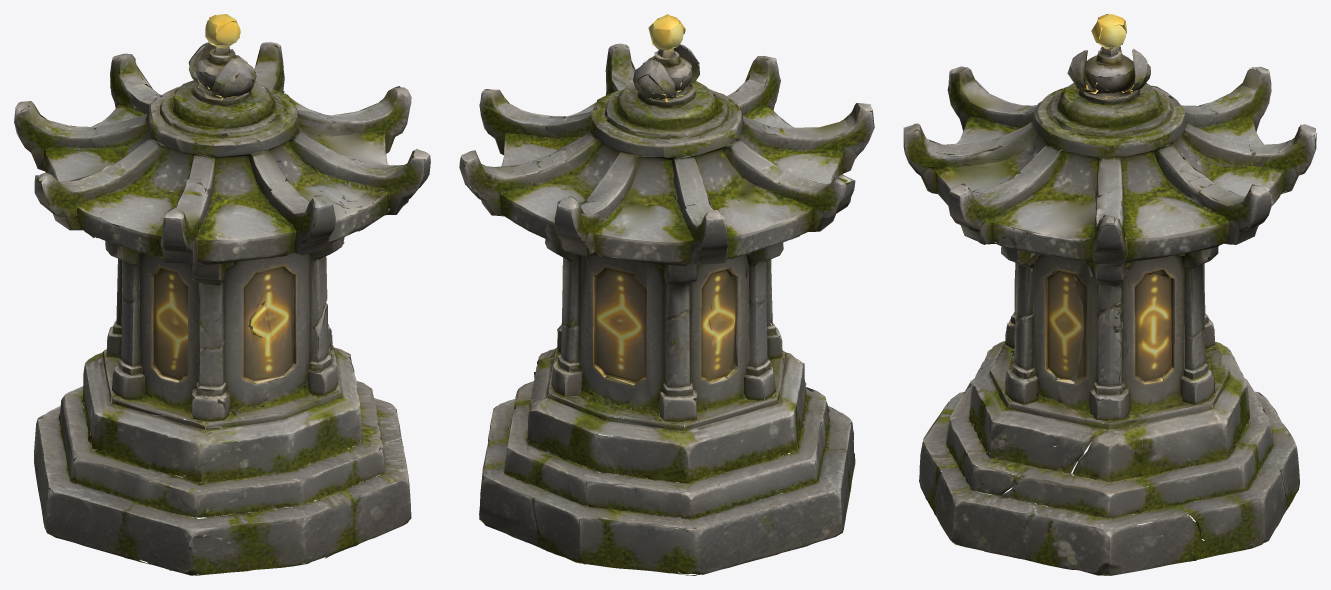
Rendered from shrine.glb.
The picture shows the model from 3 angles, left to right: view 1: azimuth 30°, elevation 25°; view 2: azimuth 150°, elevation 25°; view 3: azimuth 270°, elevation 25°; orthographic projection.
Visible parts, largest first — view 1: node_0; view 2: node_0; view 3: node_0.
Boxes of the visible parts, x1,y1,x2,y2 form: node_0: (14, 14, 430, 575); node_0: (459, 14, 874, 575); node_0: (903, 14, 1316, 575).
Size of the model in its own units: 1.09 by 1.35 by 1.06.
1 material, 1 textured.
